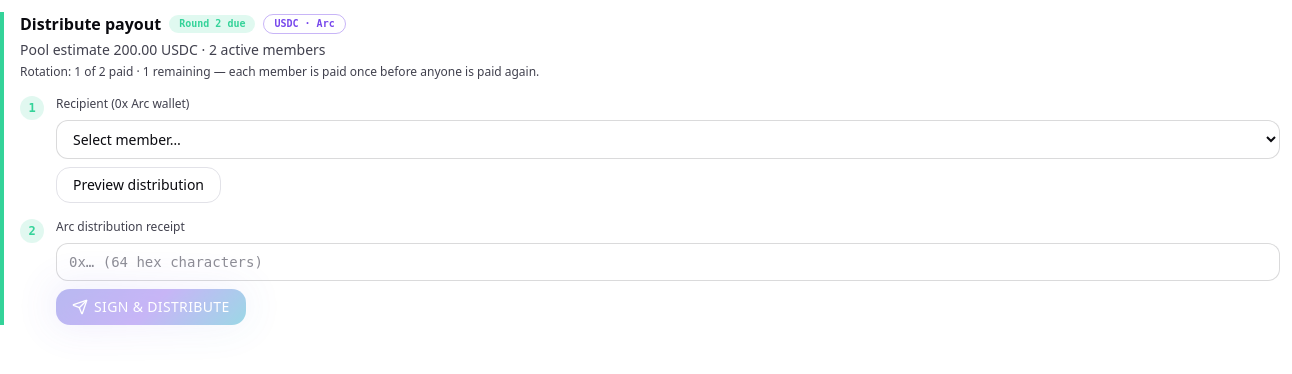
Scenario: CirclePayoutTrigger rotation (random circles) › blocks previewing an already-paid member client-side
expect the text "Rotation: 1 of 2 paid" is shown: met, box [20,63,539,80]
Select "Alice · already paid" in the dropdown labelled "Recipient (0x Arc wallet)" at (668, 140), box [56,120,1280,159]
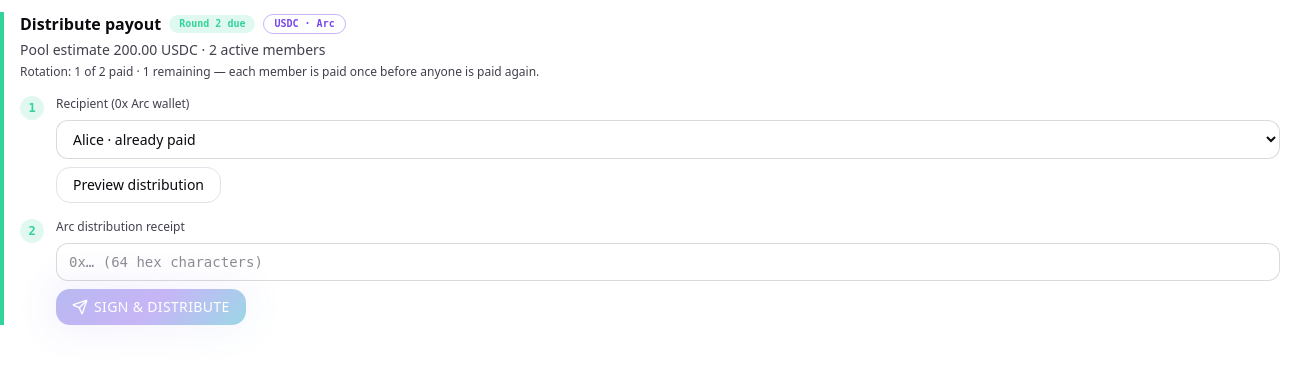
Click the button "Preview distribution" at (138, 185), box [56,167,221,203]
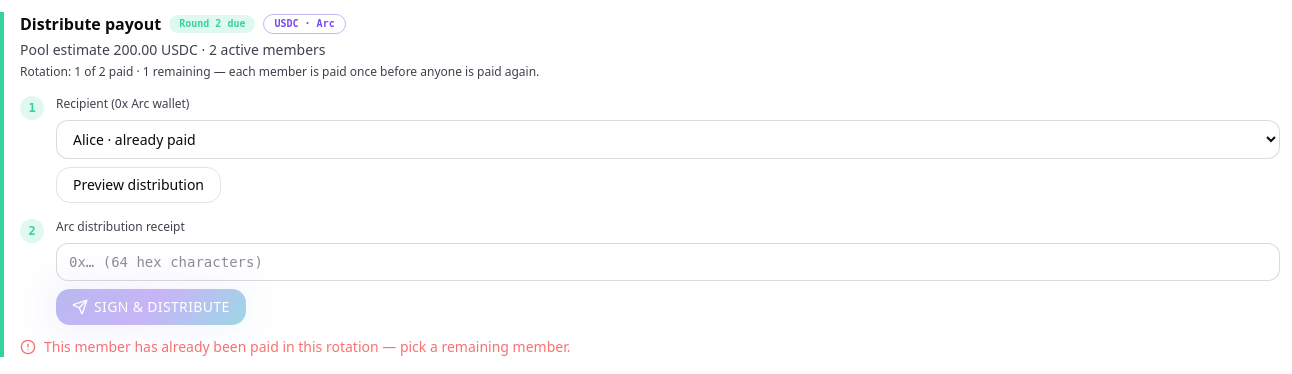
expect the text "This member has already been paid in this rotation — pick a remaining member." is shown: met, box [20,337,570,356]
